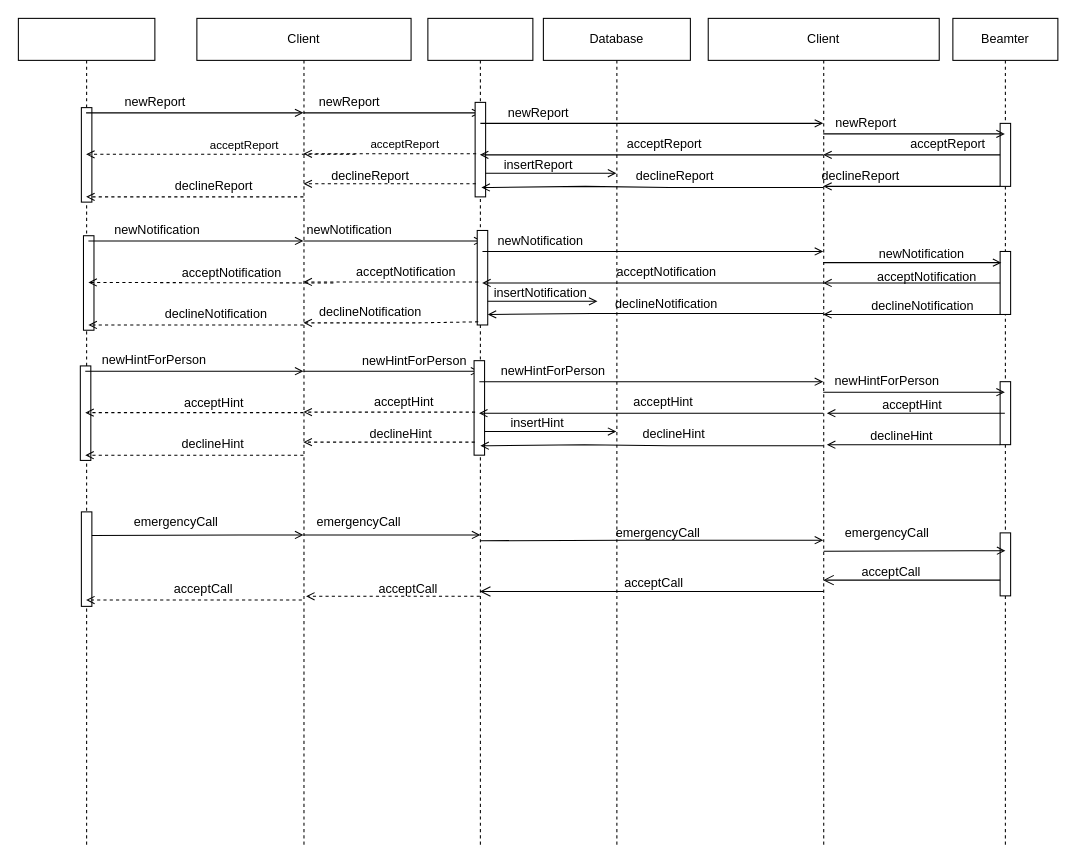
This 1076x866 diagram has some shape labels left out. Each missing label, with the box of its shape:
Bürger: (17, 17, 155, 848)
Server: (427, 17, 533, 848)
